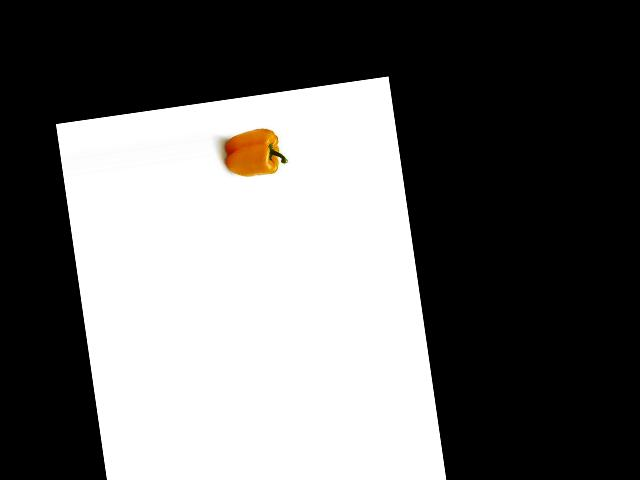bell_pepper: (221, 124, 292, 185)
